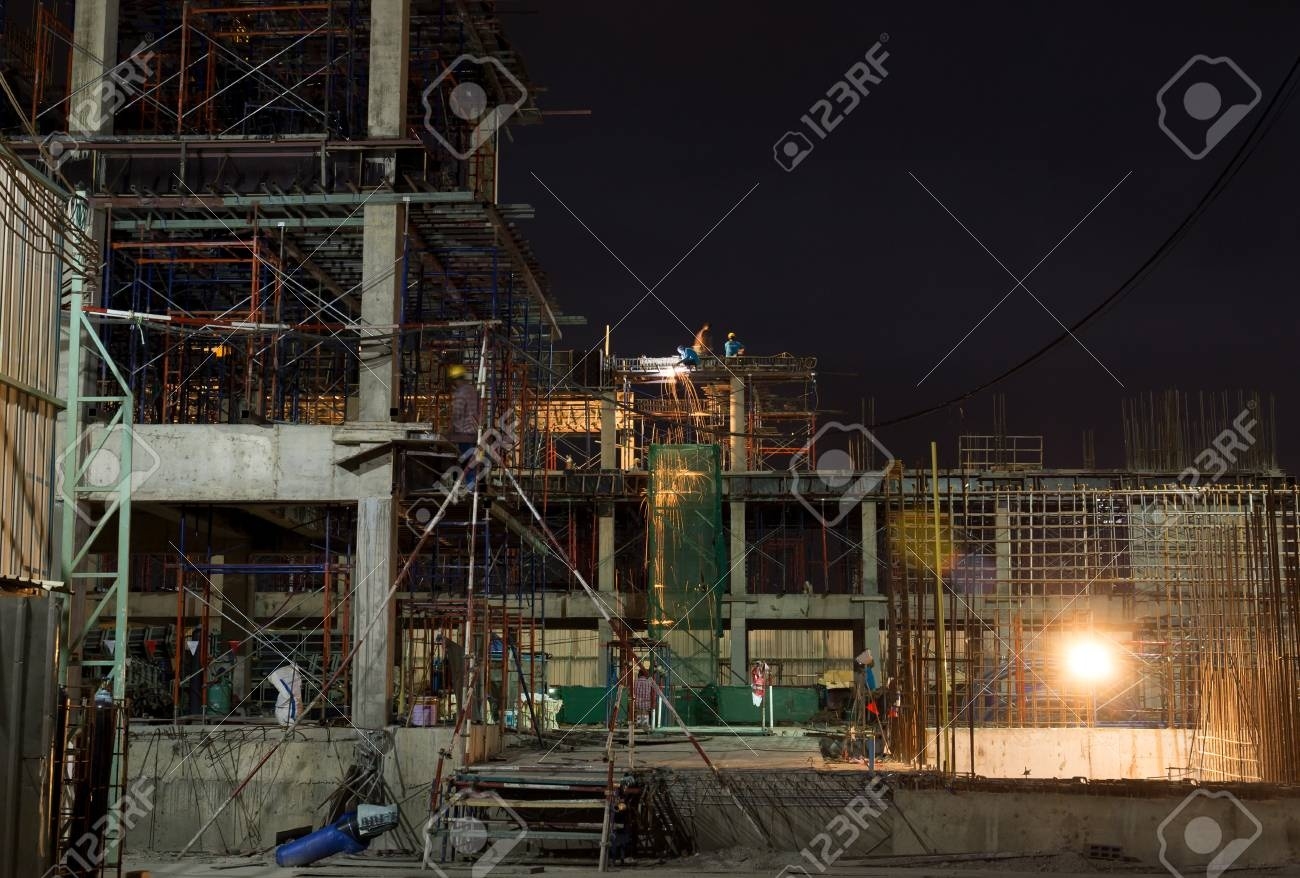yellow: (445, 362, 466, 387), (726, 331, 736, 341)
